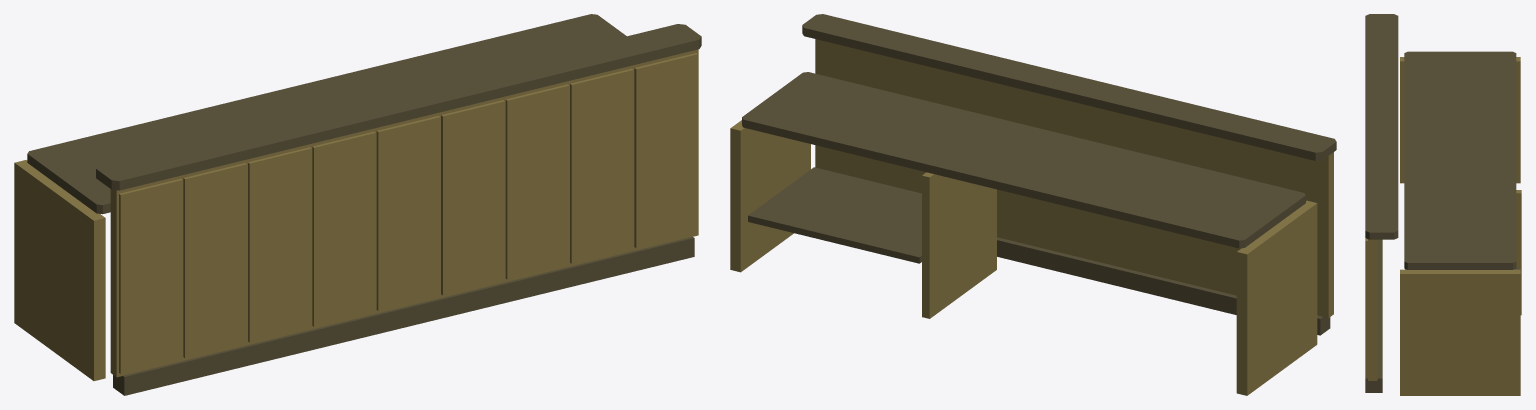
File: reception_counter.glb
3 renders of one model, left to right at view 1: azimuth 30°, elevation 25°; view 2: azimuth 150°, elevation 25°; view 3: azimuth 270°, elevation 25°, orthographic. The views are drawn at different scales.
Visible parts, largest first — view 1: Mesa trabajo, Encimera pública, Lateral, Zócalo, Listón.004, Listón.006, Listón.008, Listón.001, Listón, Listón.002, Listón.005, Listón.007 (+2 smaller); view 2: Mesa trabajo, Frente, Encimera pública, Lateral, Estante, Divisor, Lateral.001, Zócalo; view 3: Mesa trabajo, Lateral.001, Encimera pública, Frente, Lateral, Zócalo, Divisor, Listón.008.
Boxes of the visible parts, x1=… form: Mesa trabajo: x1=27, y1=14, x2=626, y2=214; Encimera pública: x1=96, y1=24, x2=701, y2=190; Lateral: x1=14, y1=160, x2=105, y2=380; Zócalo: x1=113, y1=236, x2=694, y2=395; Listón.004: x1=376, y1=116, x2=440, y2=310; Listón.006: x1=505, y1=84, x2=569, y2=279; Listón.008: x1=634, y1=53, x2=698, y2=248; Listón.001: x1=183, y1=163, x2=247, y2=358; Listón: x1=119, y1=178, x2=182, y2=373; Listón.002: x1=248, y1=147, x2=311, y2=342; Listón.005: x1=441, y1=100, x2=504, y2=295; Listón.007: x1=570, y1=68, x2=633, y2=263; Mesa trabajo: x1=742, y1=72, x2=1305, y2=248; Frente: x1=815, y1=39, x2=1333, y2=318; Encimera pública: x1=802, y1=14, x2=1336, y2=160; Lateral: x1=1236, y1=200, x2=1317, y2=395; Estante: x1=748, y1=167, x2=921, y2=263; Divisor: x1=922, y1=172, x2=996, y2=318; Lateral.001: x1=730, y1=120, x2=810, y2=272; Zócalo: x1=997, y1=237, x2=1330, y2=335; Mesa trabajo: x1=1404, y1=51, x2=1516, y2=269; Lateral.001: x1=1400, y1=269, x2=1520, y2=395; Encimera pública: x1=1365, y1=14, x2=1398, y2=239; Frente: x1=1368, y1=239, x2=1377, y2=380; Lateral: x1=1400, y1=57, x2=1520, y2=183; Zócalo: x1=1365, y1=239, x2=1382, y2=392; Divisor: x1=1516, y1=190, x2=1521, y2=315; Listón.008: x1=1365, y1=238, x2=1367, y2=376.
Size of the model in its own units: 3 by 1.05 by 0.905.
